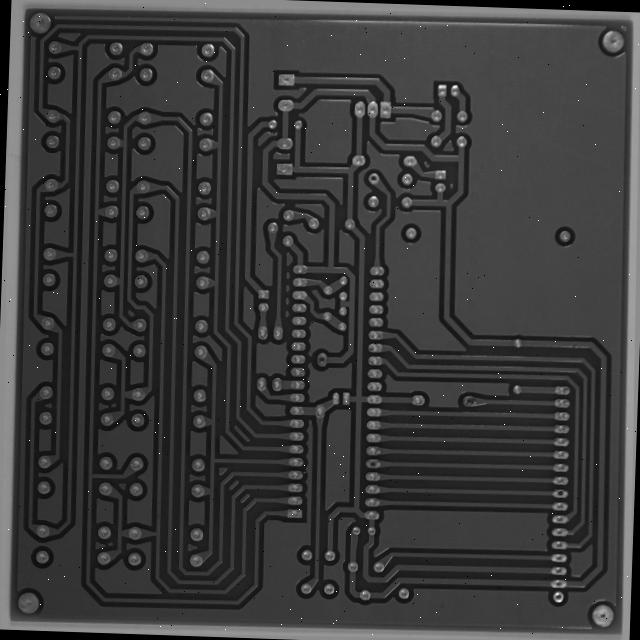missing_hole: (361, 457, 380, 474), (461, 396, 479, 412), (312, 350, 328, 367), (553, 491, 570, 506), (369, 168, 384, 184)
